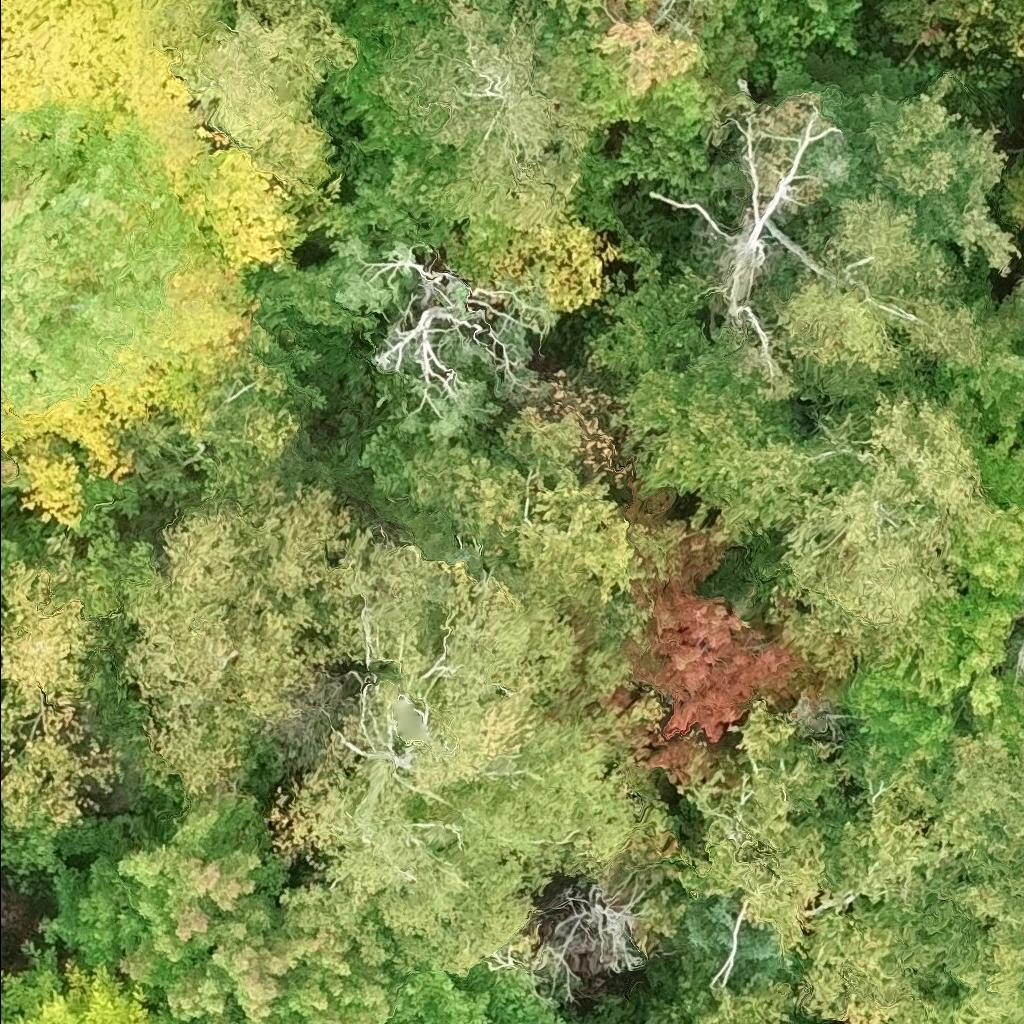crown: (321, 540, 584, 942), (111, 464, 380, 802), (37, 792, 406, 1023), (331, 0, 607, 239), (394, 714, 646, 973), (0, 94, 199, 412), (781, 386, 992, 660), (0, 0, 228, 227), (611, 332, 867, 531), (828, 728, 1023, 985), (165, 0, 419, 184), (674, 699, 840, 950), (628, 540, 814, 745), (0, 516, 157, 744), (857, 69, 1021, 275), (540, 0, 763, 142), (513, 472, 659, 617), (799, 51, 920, 216), (769, 282, 919, 404), (826, 188, 967, 308), (411, 438, 537, 564), (795, 906, 929, 1023), (0, 702, 121, 830), (916, 578, 1023, 721), (0, 942, 184, 1023), (936, 278, 1023, 429), (955, 881, 1023, 1023), (492, 404, 580, 485), (960, 499, 1023, 596), (898, 293, 981, 362), (728, 905, 799, 983), (776, 0, 866, 56), (692, 979, 800, 1023), (969, 419, 1023, 507), (672, 887, 737, 960), (976, 655, 1023, 751), (155, 0, 234, 32), (999, 153, 1023, 230), (0, 457, 20, 491), (0, 990, 22, 1013), (407, 0, 435, 10), (1019, 644, 1023, 681), (0, 400, 3, 421), (910, 0, 925, 2), (477, 0, 490, 1)
